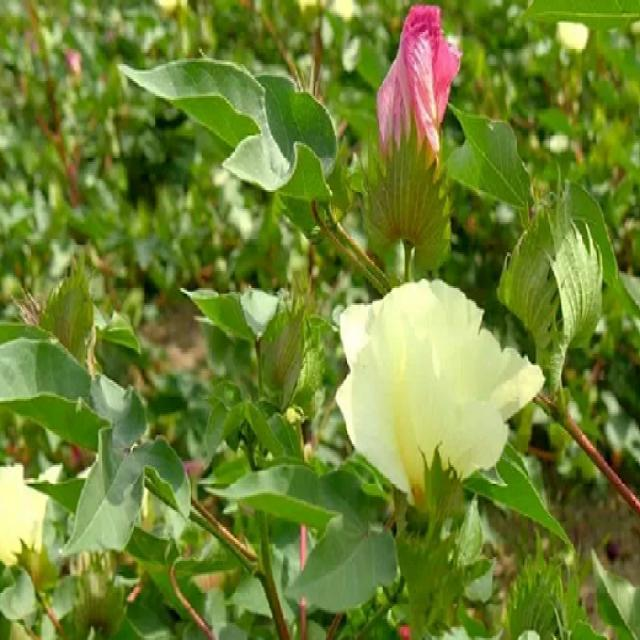Cotton Blossom: (336, 276, 548, 562), (356, 1, 464, 268), (0, 458, 53, 596)
Cotton Bud: (498, 176, 610, 376), (250, 275, 324, 411), (39, 246, 102, 364)
